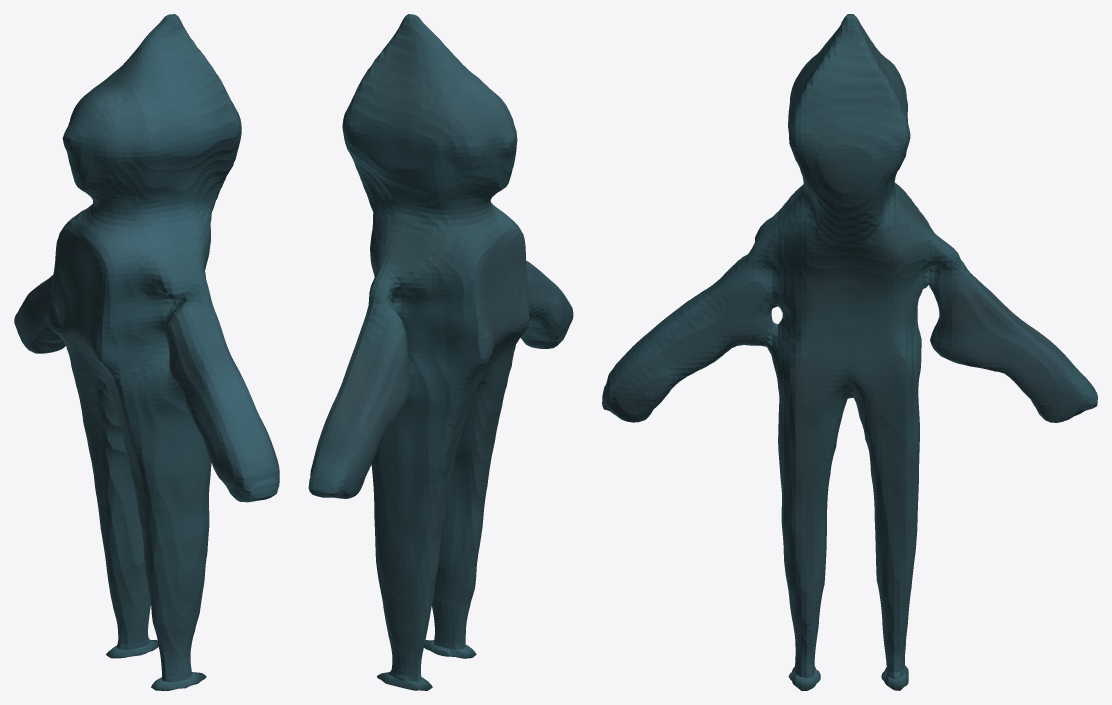
3 views of the same model, side by side, from view 1: azimuth 30°, elevation 25°; view 2: azimuth 150°, elevation 25°; view 3: azimuth 270°, elevation 25° (orthographic). The views are drawn at different scales.
Parts seen in each view (by area): view 1: tmp3tgjo9lc.ply; view 2: tmp3tgjo9lc.ply; view 3: tmp3tgjo9lc.ply.
Boxes of the visible parts, x1=… form: tmp3tgjo9lc.ply: x1=14, y1=14, x2=279, y2=690; tmp3tgjo9lc.ply: x1=308, y1=14, x2=573, y2=690; tmp3tgjo9lc.ply: x1=602, y1=14, x2=1097, y2=690.
Size of the model in its own units: 0.5081 by 1.98 by 1.33.
